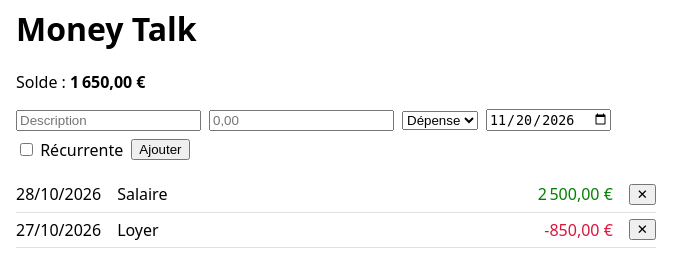
Test: App › supprime une transaction
The image size is (673, 265).
Expected: the text "Loyer" is shown, [117, 219, 159, 241]
Click the button named "Supprimer Loyer".
click(642, 230)  # box [629, 219, 656, 240]
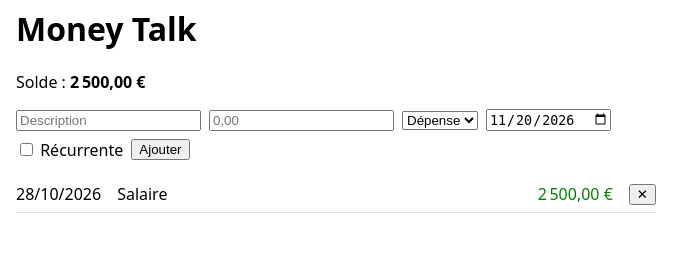
Expected: the text "Salaire" is shown, [117, 183, 167, 205]
Now the text "Loyer" is gone
